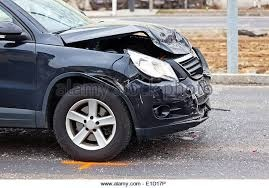Scratch: (85, 68, 149, 109)
Smashed: (38, 22, 213, 134)
